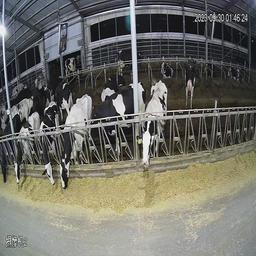cow: (57, 82, 94, 200), (96, 83, 145, 165), (141, 75, 170, 187), (14, 109, 40, 192), (38, 96, 59, 198), (2, 105, 17, 201), (9, 90, 36, 121), (183, 57, 198, 109), (116, 43, 139, 74), (53, 76, 70, 117), (157, 54, 176, 82), (204, 58, 220, 84), (60, 54, 78, 76), (221, 57, 237, 81)
